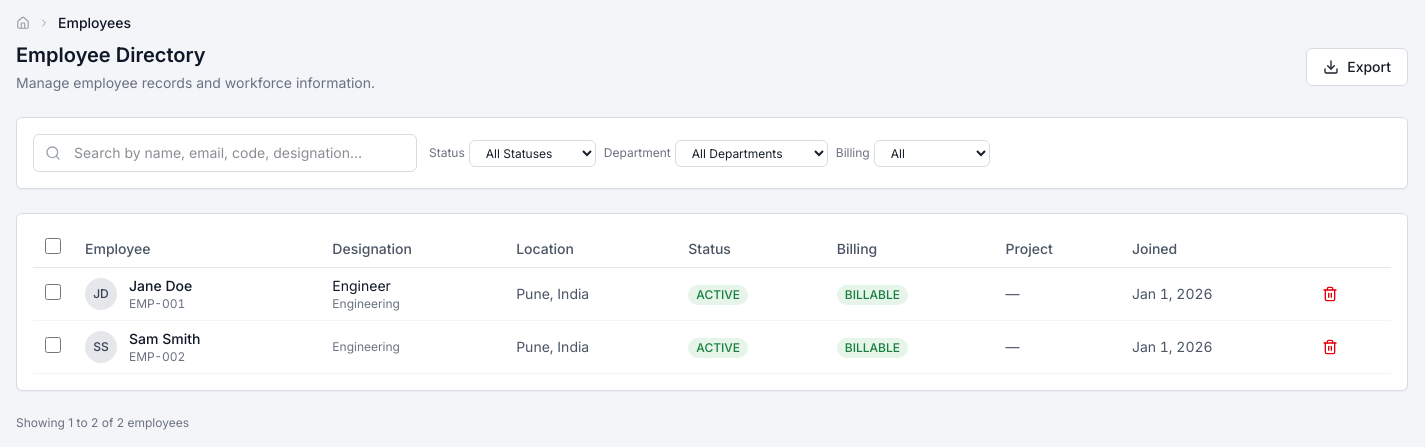
Scenario: EmployeeDirectoryPage search bar › does not crash and filters when an employee has no designation
The width and height of the screenshot is (1425, 447).
Step 1. Type "sam" into the field with placeholder "Search by name, email, code, designation…" → [225, 153], box [33,134,417,172]
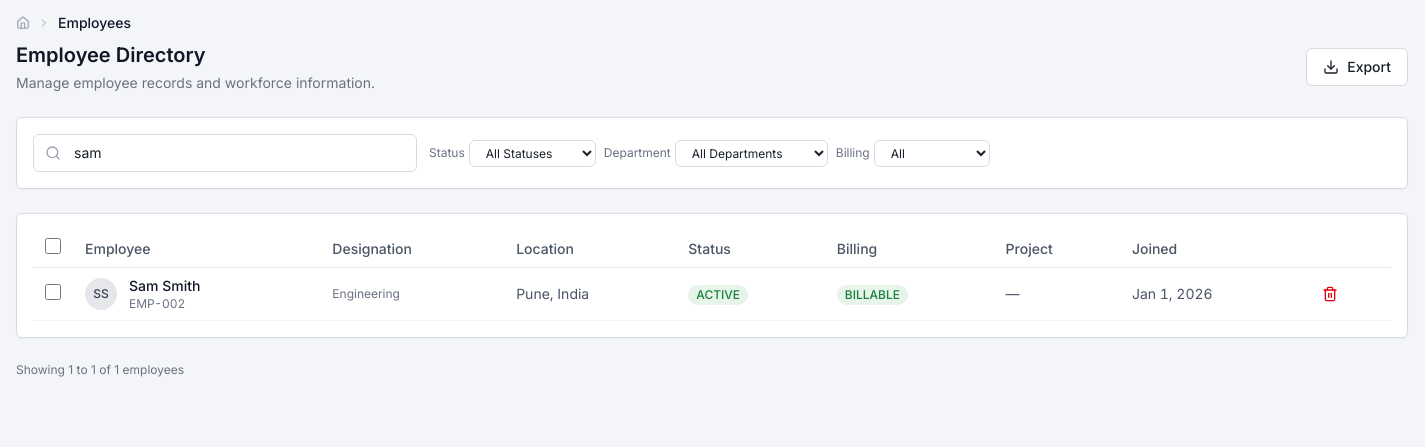
Expected: the link "Sam Smith" is shown, [129,277,200,294]
Result: the link "Jane Doe" is gone
